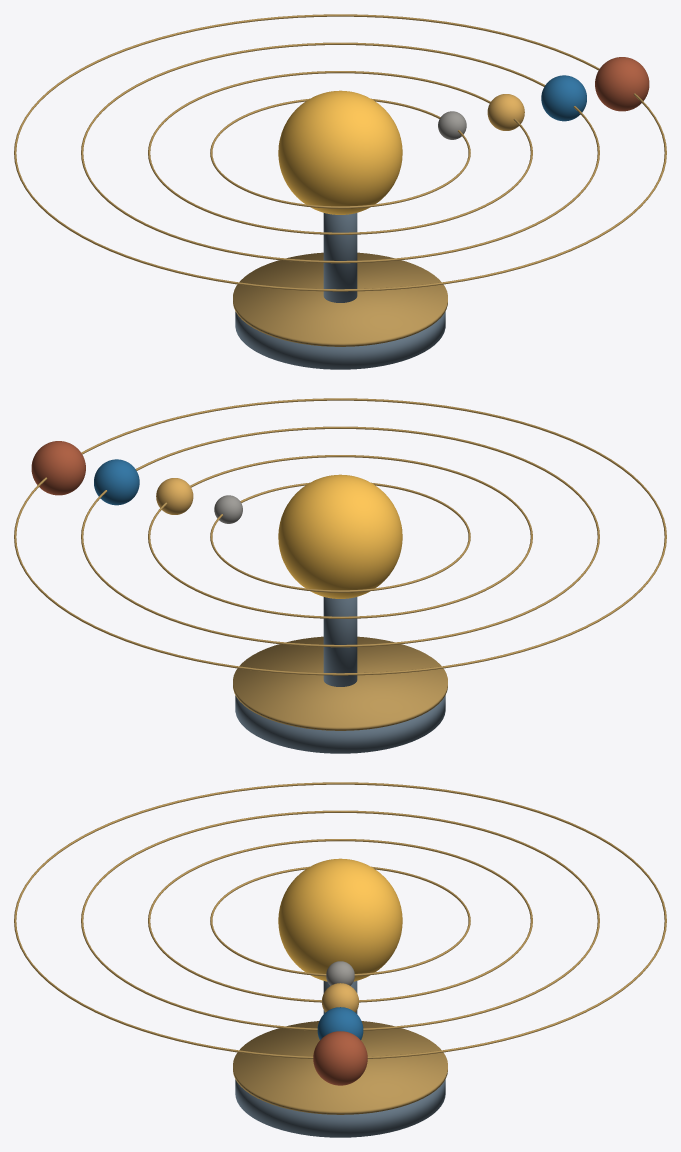
The model's file is earthsky-orrery-v1-ultra.glb.
3 views of the same model, one above another, from view 1: azimuth 30°, elevation 25°; view 2: azimuth 150°, elevation 25°; view 3: azimuth 270°, elevation 25° (orthographic).
Parts seen in each view (by area): view 1: brass-trim, sun, weighted-base, orbit.003, orbit.002, pedestal, orbit.001, planet-3, planet-2, orbit, planet-1, planet-0; view 2: brass-trim, sun, weighted-base, orbit.003, orbit.002, pedestal, orbit.001, planet-3, planet-2, orbit, planet-1, planet-0; view 3: brass-trim, sun, weighted-base, orbit.003, orbit.002, orbit.001, planet-3, orbit, planet-2, planet-1, planet-0.
Part boxes in pixels (<box>): brass-trim: <box>233,252,447,346</box>; sun: <box>278,90,402,214</box>; weighted-base: <box>235,311,445,369</box>; orbit.003: <box>14,14,666,291</box>; orbit.002: <box>81,42,599,263</box>; pedestal: <box>323,213,357,302</box>; orbit.001: <box>148,71,532,234</box>; planet-3: <box>595,57,649,111</box>; planet-2: <box>541,75,586,121</box>; orbit: <box>210,98,470,208</box>; planet-1: <box>487,94,524,130</box>; planet-0: <box>438,111,466,139</box>; brass-trim: <box>233,636,447,730</box>; sun: <box>278,474,402,598</box>; weighted-base: <box>235,695,445,753</box>; orbit.003: <box>14,398,666,675</box>; orbit.002: <box>81,426,599,647</box>; pedestal: <box>323,597,357,686</box>; orbit.001: <box>148,455,532,618</box>; planet-3: <box>31,441,85,495</box>; planet-2: <box>94,459,139,505</box>; orbit: <box>210,482,470,592</box>; planet-1: <box>156,478,193,514</box>; planet-0: <box>214,495,242,523</box>; brass-trim: <box>233,1021,447,1114</box>; sun: <box>278,858,402,981</box>; weighted-base: <box>235,1079,445,1137</box>; orbit.003: <box>14,782,666,1058</box>; orbit.002: <box>81,810,599,1030</box>; orbit.001: <box>148,839,532,1002</box>; planet-3: <box>313,1031,367,1085</box>; orbit: <box>210,866,470,976</box>; planet-2: <box>317,1007,363,1039</box>; planet-1: <box>322,983,358,1012</box>; planet-0: <box>326,961,354,985</box>.
Size of the model in its own units: 1.42 by 0.5275 by 1.37.
